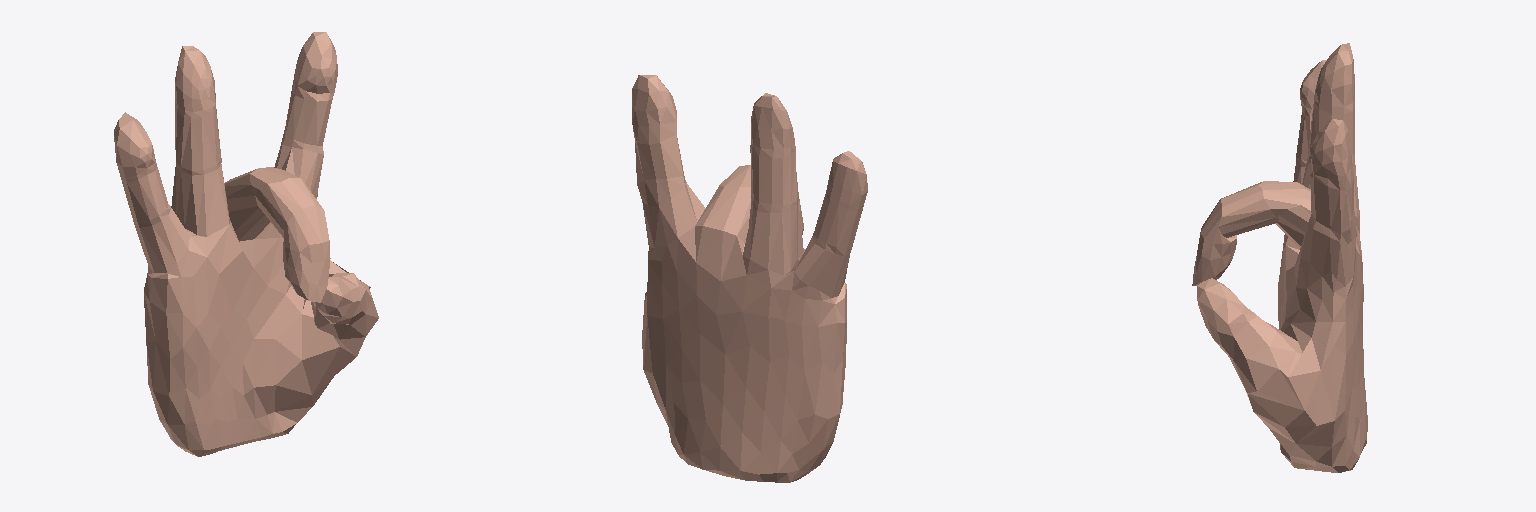
Rendered from MAO_PROFISSAO.obj.
3 views of the same model, side by side, from view 1: azimuth 30°, elevation 25°; view 2: azimuth 150°, elevation 25°; view 3: azimuth 270°, elevation 25° (orthographic).
Visible parts, largest first — view 1: mao_dir:mao_dir; view 2: mao_dir:mao_dir; view 3: mao_dir:mao_dir.
Boxes of the visible parts, <box> form: mao_dir:mao_dir: <box>114,32,378,456</box>; mao_dir:mao_dir: <box>632,75,867,482</box>; mao_dir:mao_dir: <box>1192,43,1367,472</box>.
Bounding box in the file's own units: 150 × 234 × 96.01.